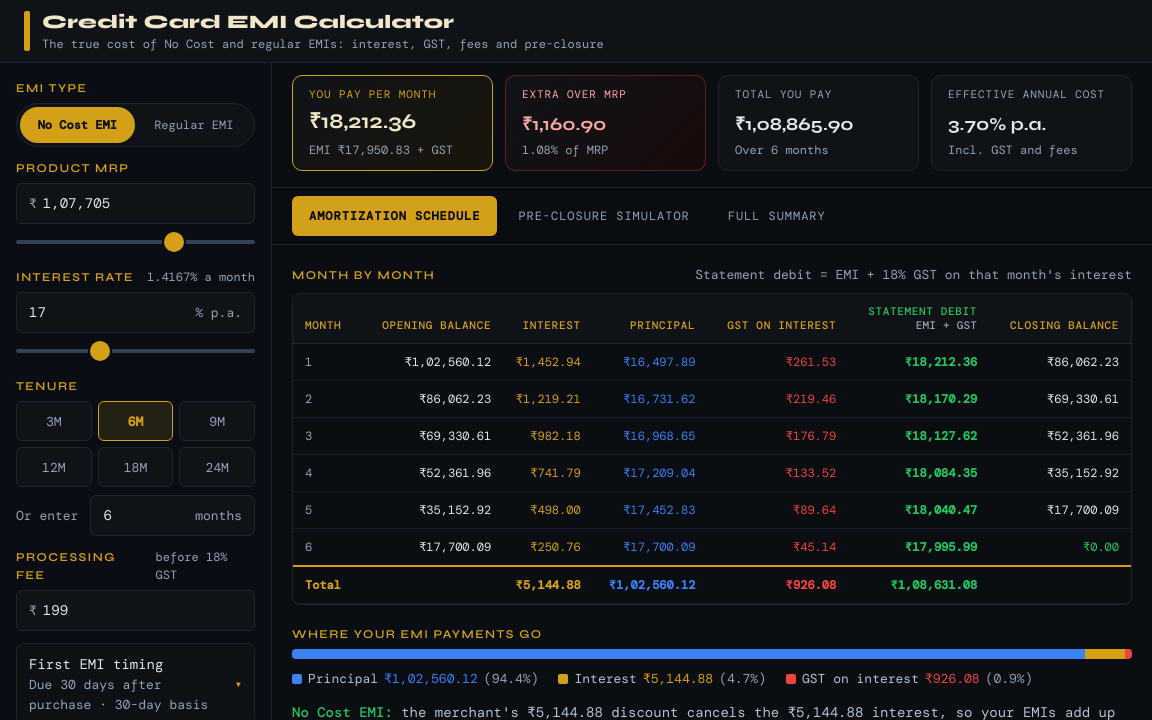
number fields keep the user's draft › flags a zero tenure that more typing cannot fix
Replace the text in the field named "Or enter tenure in months" with "0": (146, 516) [103,496,189,535]
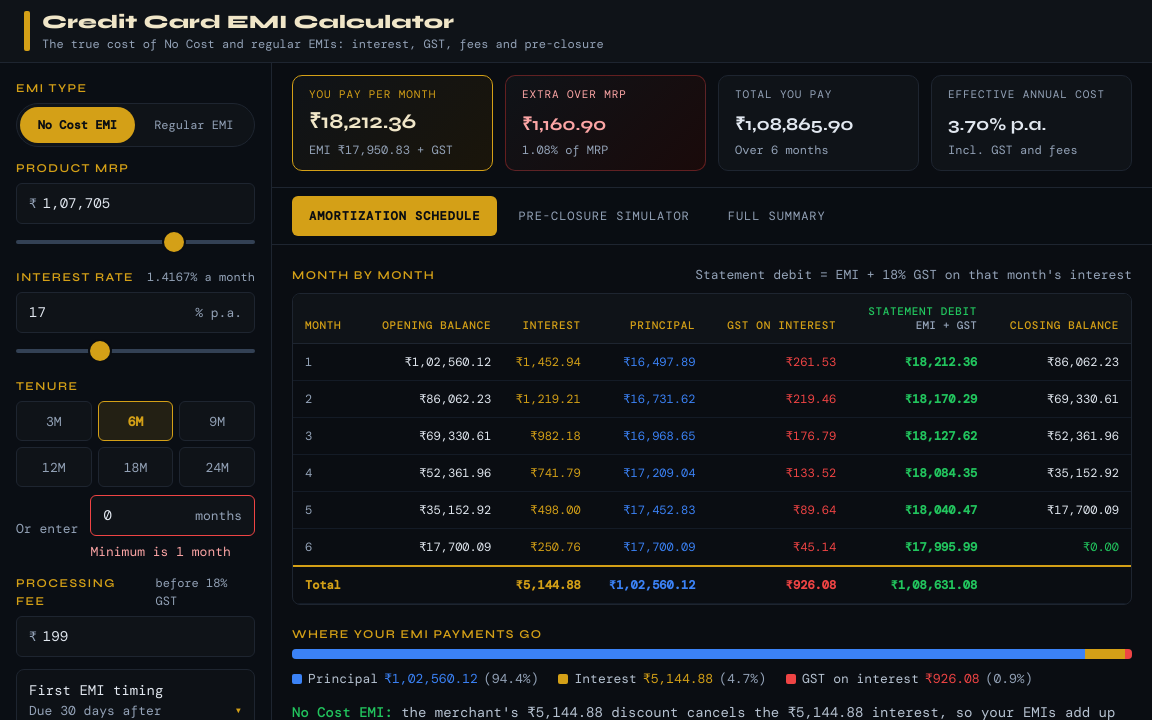
Check: the text "Minimum is 1 month" is shown, box [90,542,255,562]
